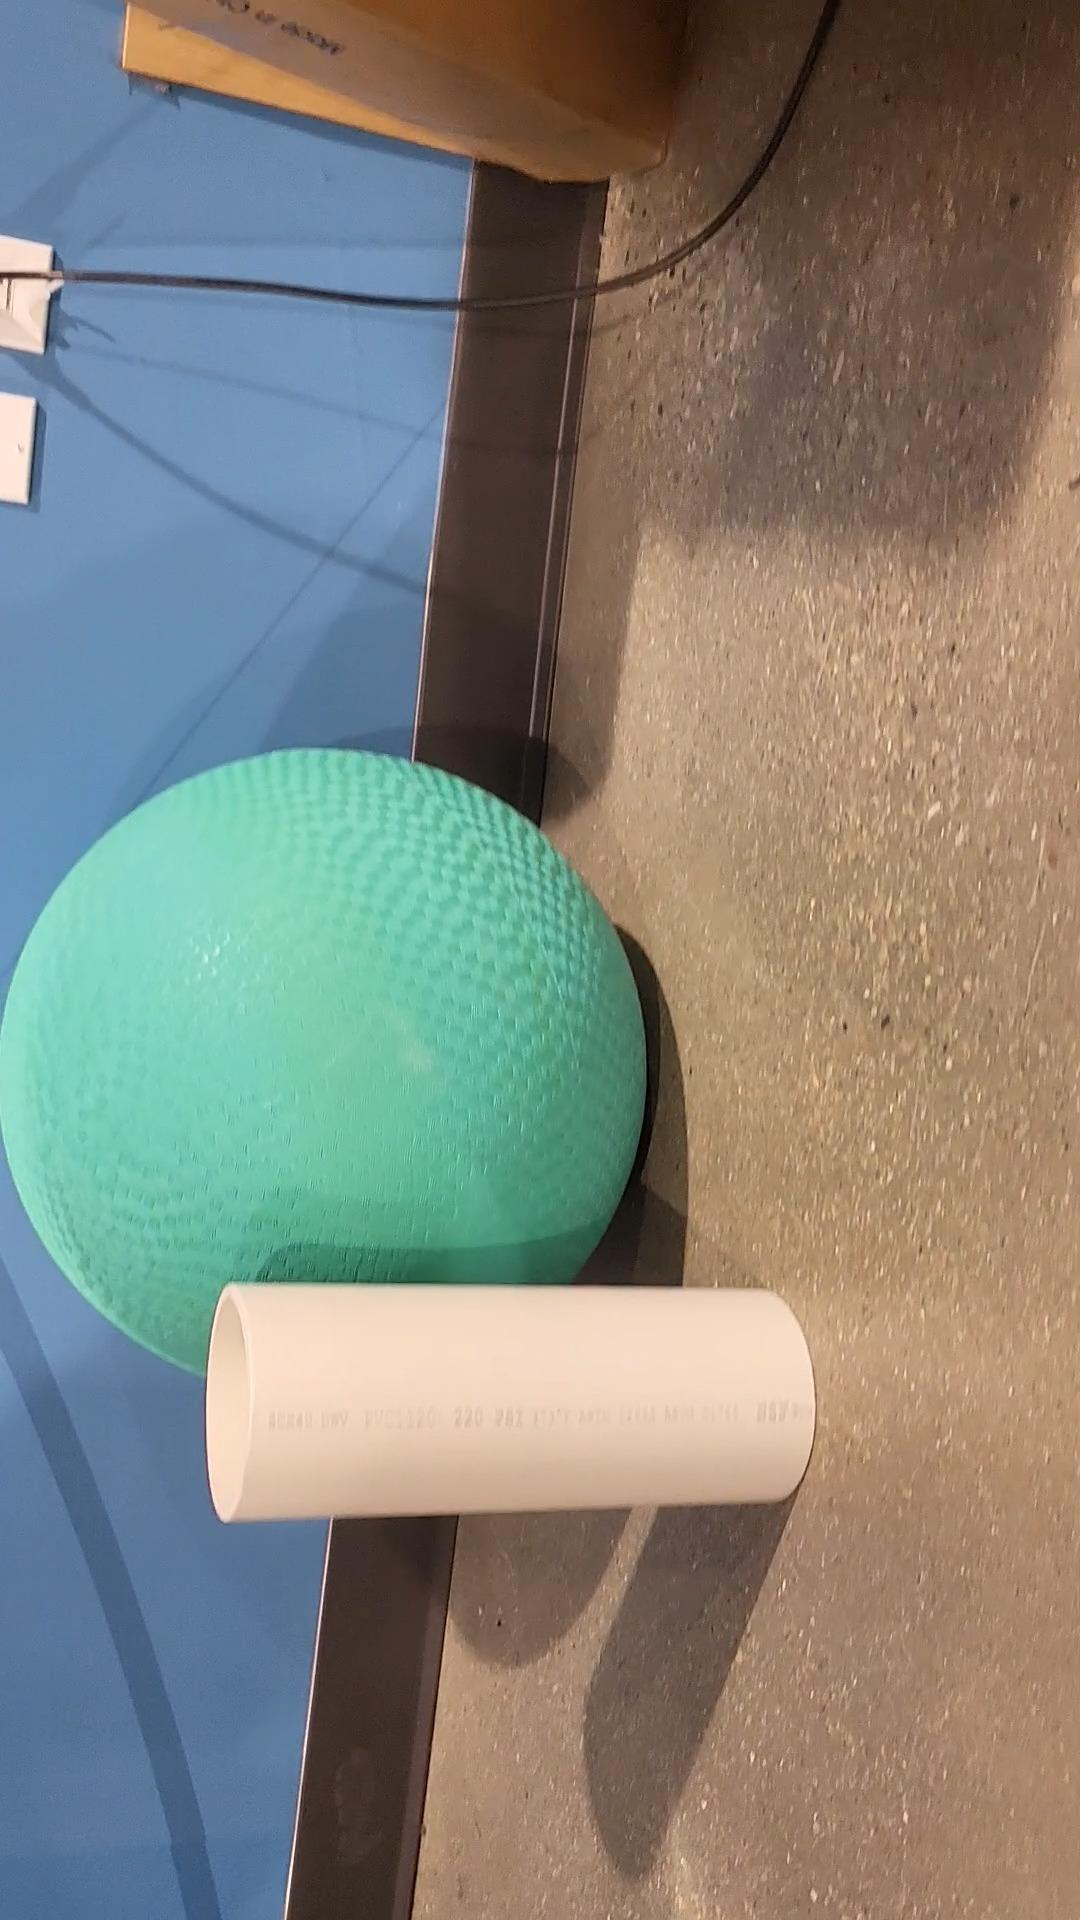algae: (0, 753, 650, 1387)
coral: (207, 1284, 818, 1520)
